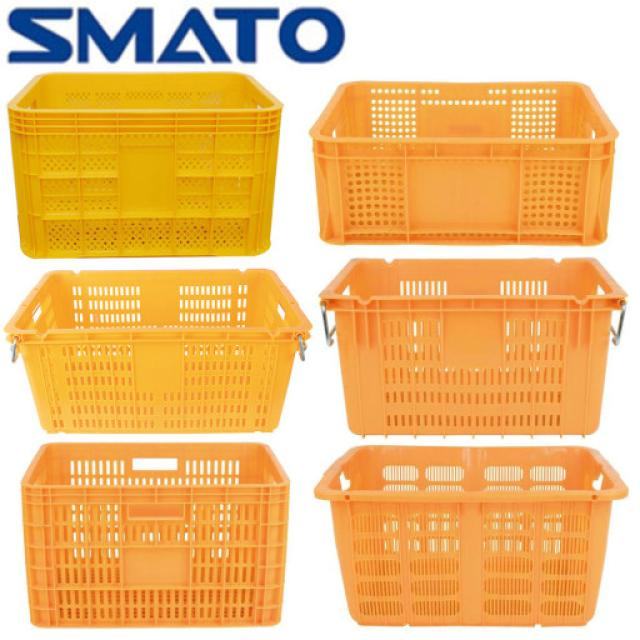basket: (316, 448, 629, 627), (320, 260, 628, 436), (9, 72, 283, 258), (21, 442, 291, 630), (5, 270, 310, 434), (311, 82, 619, 244)
